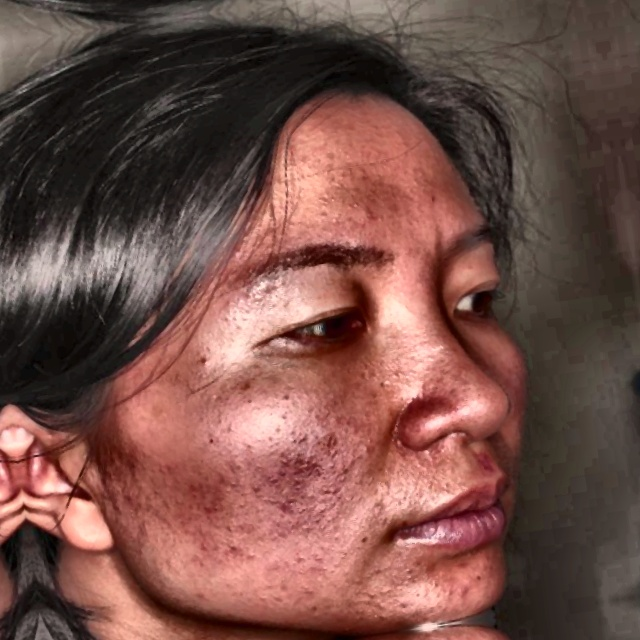comedone: (477, 452, 502, 475), (228, 240, 245, 263)
